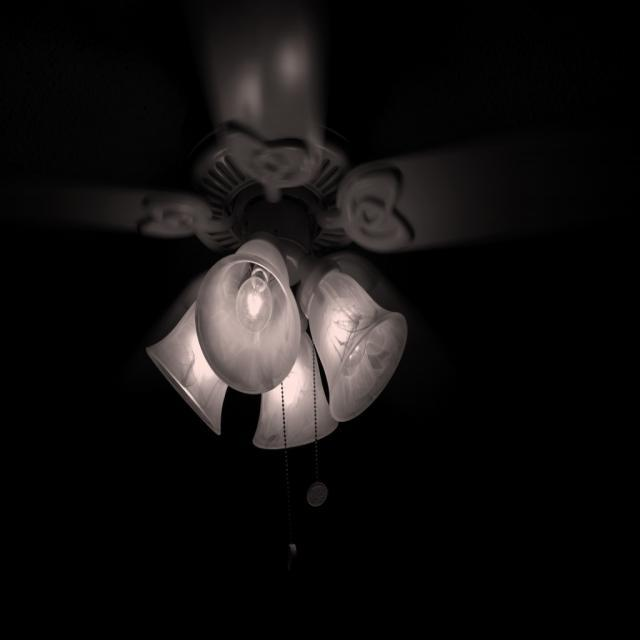bulb_on: (237, 272, 274, 338)
fan_off: (16, 5, 640, 256)
